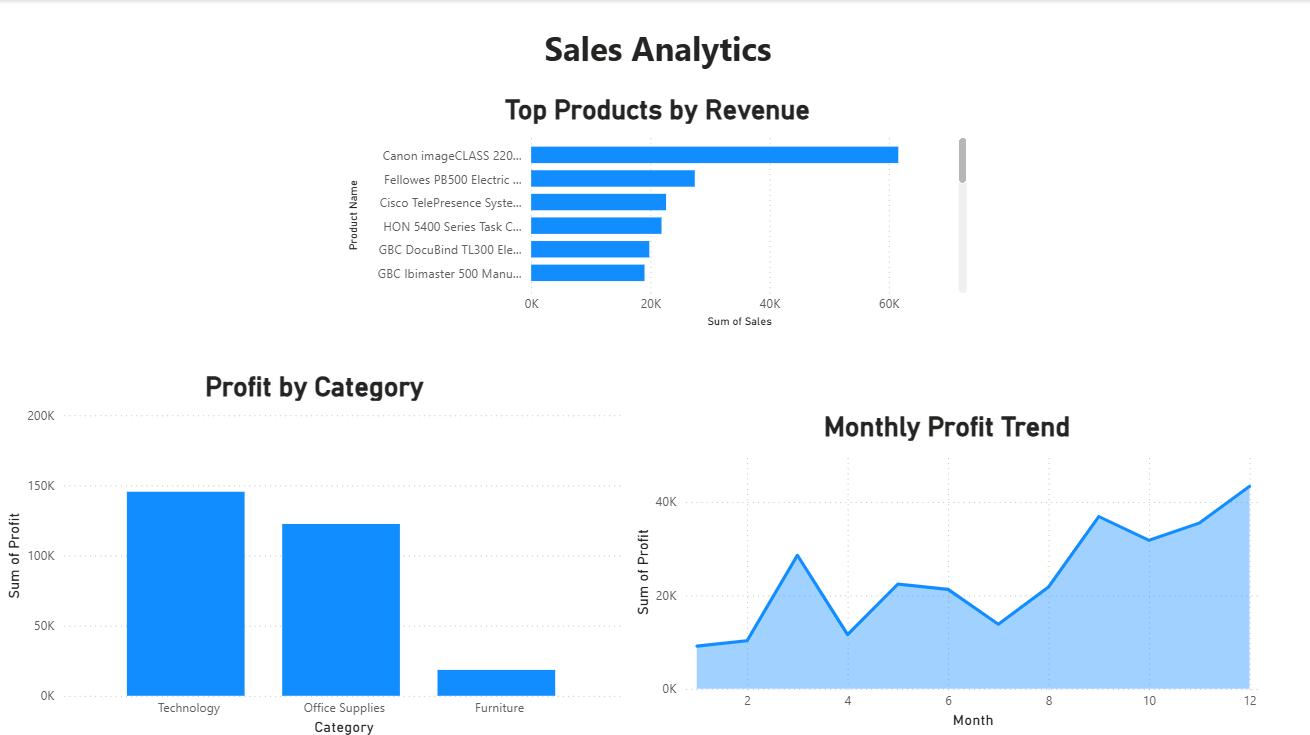

The page's visual inventory and layout, read from the dashboard file:
{"tool":"powerbi","page":{"name":"Sales Analytics","canvas":[1280,720],"ordinal":1},"visuals":[{"type":"clusteredBarChart","title":"Top Products by Revenue","fields":{"Category":["top_products.Product Name"],"Y":["Sum(top_products.Sales)"]},"box":[333.6,90.5,611.8,232.5],"z":0},{"type":"clusteredColumnChart","title":"Profit by Category","fields":{"Category":["profitability.Category"],"Y":["Sum(profitability.Profit)"]},"box":[0,359.9,611.8,359.9],"z":1},{"type":"stackedAreaChart","title":"Monthly Profit Trend","fields":{"Category":["monthly_profit.Month"],"Y":["Sum(monthly_profit.Profit)"]},"box":[611.8,398.8,618.6,314.2],"z":2},{"type":"textbox","box":[0,19.5,1280,64.2],"z":3}]}

Visuals, with their boxes in screenshot pixels (x1, y1, x2, y2), scaled from the page's 1280x720 canvas onto the 1310x735 screenshot:
"Top Products by Revenue" clusteredBarChart: 341,92,968,330
"Profit by Category" clusteredColumnChart: 0,367,626,734
"Monthly Profit Trend" stackedAreaChart: 626,407,1259,728
textbox: 0,20,1309,85
